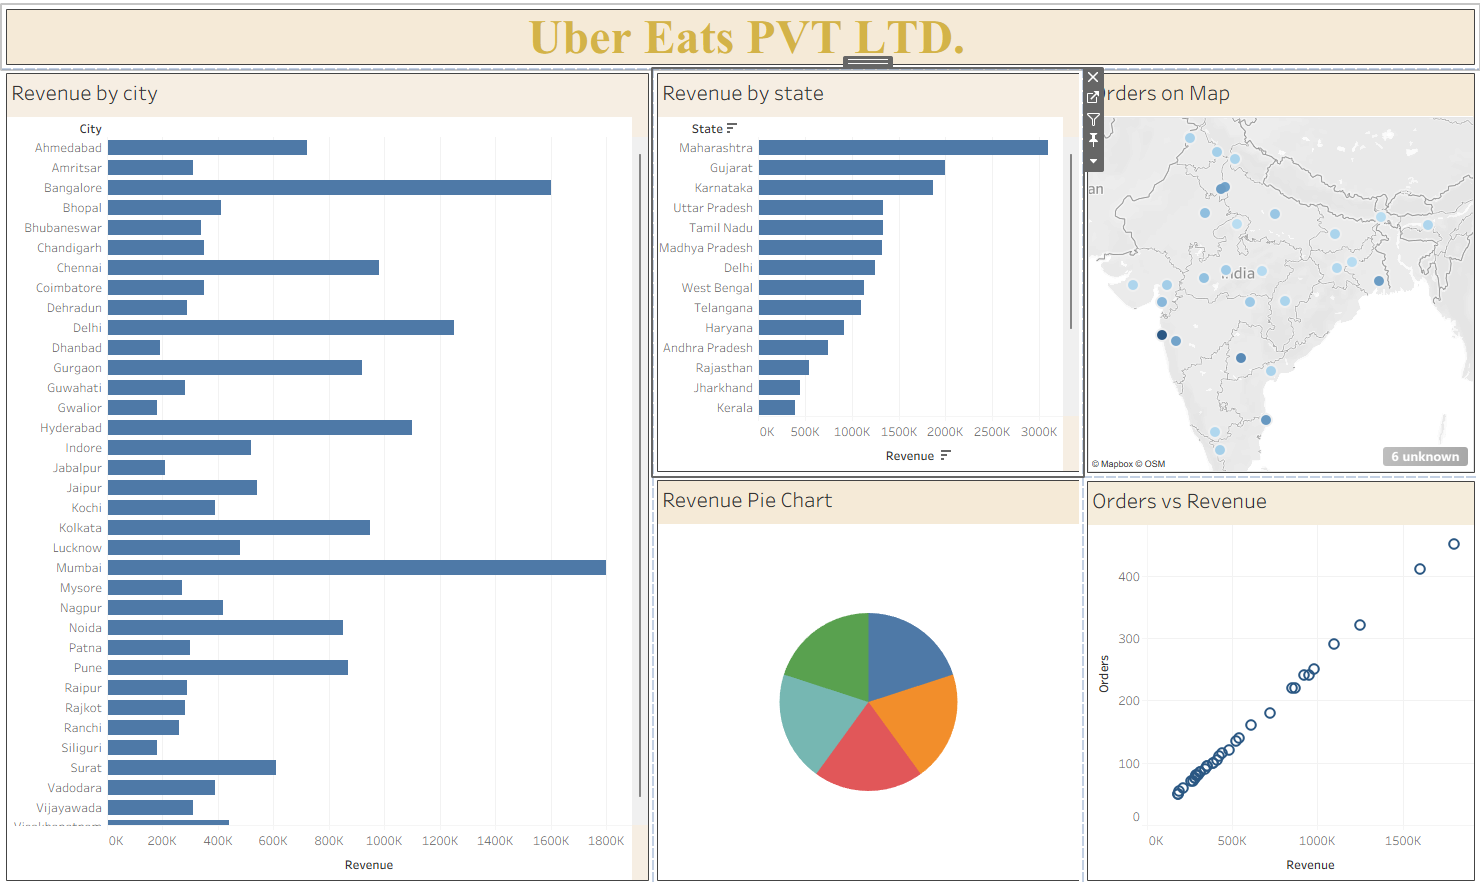

What the dashboard file says about the page in this screenshot:
{"tool":"tableau","page":{"name":"Dashboard 1","canvas":[1000,1000],"units":"permille","ordinal":0},"visuals":[{"type":"text","box":[4.8,8.9,893.5,71]},{"type":"legend","title":"Revenue Pie Chart","param":"[federated.1iw0ph319defxs1595gcx19q2l0p].[none:Region:nk]","box":[898.4,8.9,96.8,140.6]},{"type":"worksheet","title":"Revenue by city","mark":"Automatic","rows":["City"],"cols":["Revenue"],"box":[4.8,79.9,393.5,911.2]},{"type":"worksheet","title":"Revenue by state","mark":"Automatic","rows":["State"],"cols":["Revenue"],"box":[398.4,79.9,260.7,454.2]},{"type":"worksheet","title":"Orders on Map","mark":"Automatic","box":[659.1,79.9,239.3,455.6]},{"type":"legend","title":"Orders on Map","param":"[federated.1iw0ph319defxs1595gcx19q2l0p].[sum:Orders:qk]","box":[898.4,149.6,96.8,72.5]},{"type":"legend","title":"Orders vs Revenue","param":"[federated.1iw0ph319defxs1595gcx19q2l0p].[cnt:Region:qk]","box":[898.4,222.1,96.8,72.5]},{"type":"worksheet","title":"Revenue Pie Chart","mark":"Pie","box":[398.4,534.1,260.7,456.9]},{"type":"worksheet","title":"Orders vs Revenue","mark":"Automatic","rows":["Orders"],"cols":["Revenue"],"box":[659.1,535.5,239.3,455.6]}]}

Visuals, with their boxes on the dashboard's canvas, which has no fixed pixel size, in thousandths of its width and height (x1, y1, x2, y2). These are canvas units, not pixel positions in the 1480x884 screenshot, which may show the page scaled, cropped or inside an application window:
text: l=5, t=9, r=898, b=80
"Revenue Pie Chart" legend: l=898, t=9, r=995, b=150
"Revenue by city" worksheet: l=5, t=80, r=398, b=991
"Revenue by state" worksheet: l=398, t=80, r=659, b=534
"Orders on Map" worksheet: l=659, t=80, r=898, b=536
"Orders on Map" legend: l=898, t=150, r=995, b=222
"Orders vs Revenue" legend: l=898, t=222, r=995, b=295
"Revenue Pie Chart" worksheet (Pie marks): l=398, t=534, r=659, b=991
"Orders vs Revenue" worksheet: l=659, t=536, r=898, b=991
